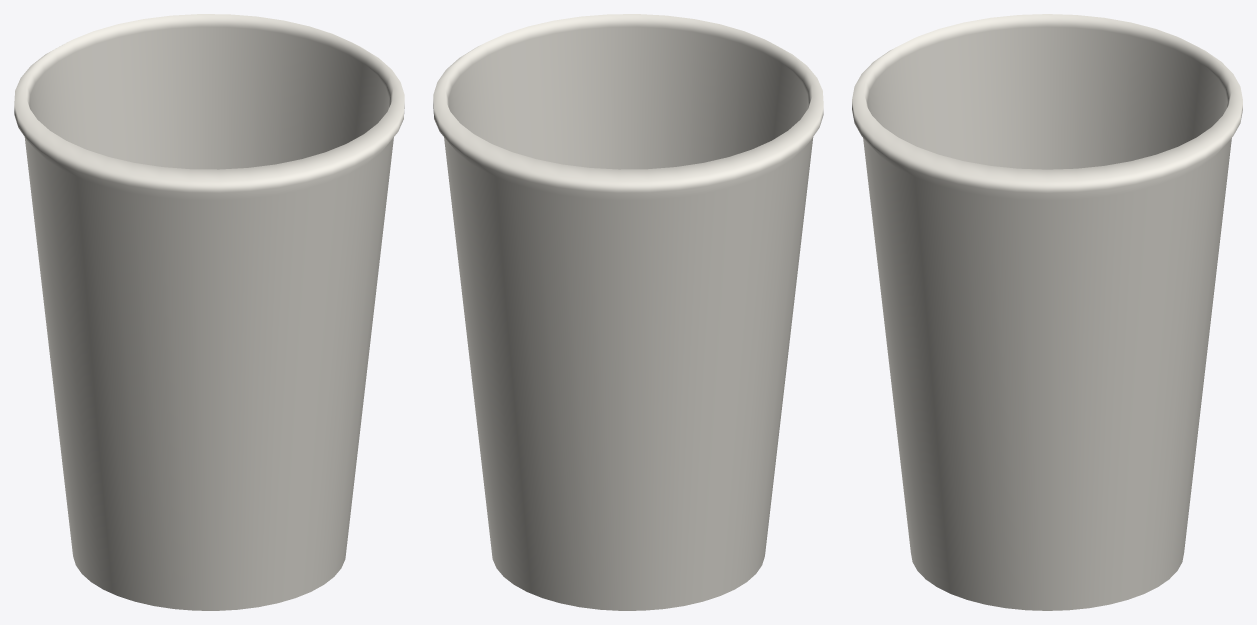
Rendered from SM_Cup.glb.
3 views of the same model, side by side, from view 1: azimuth 30°, elevation 25°; view 2: azimuth 150°, elevation 25°; view 3: azimuth 270°, elevation 25° (orthographic).
Visible parts, largest first — view 1: SM_Cup; view 2: SM_Cup; view 3: SM_Cup.
Part boxes in pixels (x1,y1,x2,y2): SM_Cup: [14, 14, 404, 610]; SM_Cup: [433, 14, 823, 610]; SM_Cup: [852, 14, 1242, 610].
Size of the model in its own units: 0.0944 by 0.123 by 0.0944.
1 material, 1 textured.
